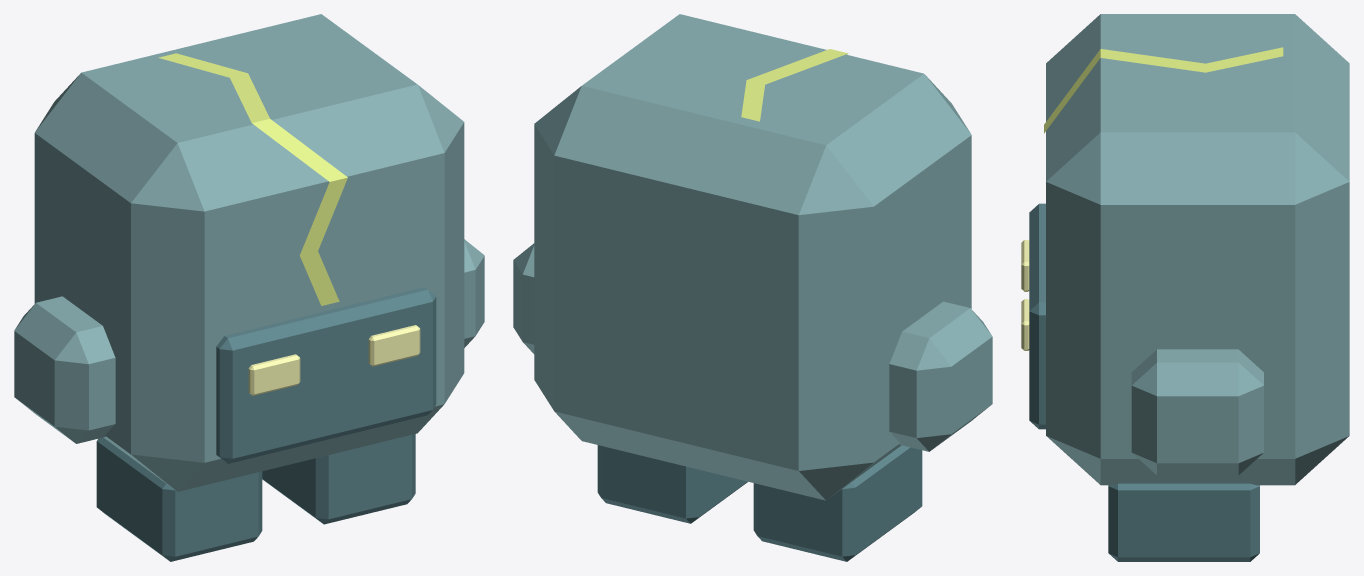
Rendered from EnemySplitling.fbx.
The picture shows the model from 3 angles, left to right: view 1: azimuth 30°, elevation 25°; view 2: azimuth 150°, elevation 25°; view 3: azimuth 270°, elevation 25°; orthographic projection.
Visible parts, largest first — view 1: EnemySplitling; view 2: EnemySplitling; view 3: EnemySplitling.
Boxes of the visible parts, x1,y1,x2,y2 form: EnemySplitling: [14, 14, 484, 561]; EnemySplitling: [513, 14, 992, 561]; EnemySplitling: [1021, 14, 1349, 561].
Size of the model in its own units: 64.5 by 61.25 by 42.17.
